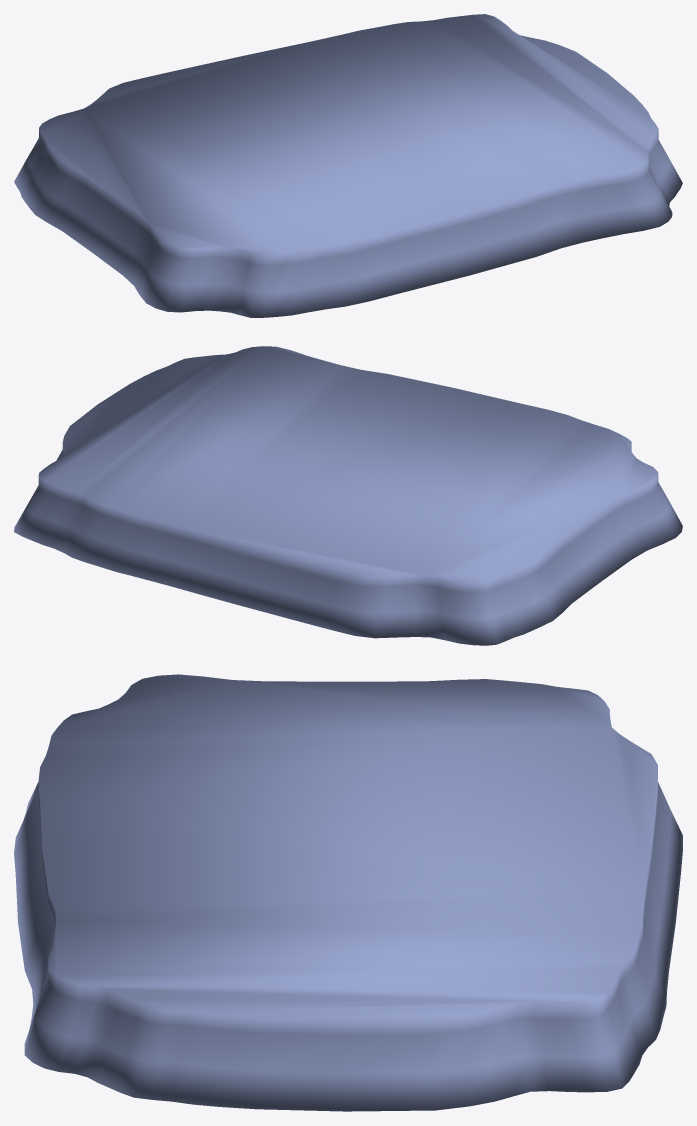
Rendered from snow-foundation.glb.
The picture shows the model from 3 angles, top to bottom: view 1: azimuth 30°, elevation 25°; view 2: azimuth 150°, elevation 25°; view 3: azimuth 270°, elevation 25°; orthographic projection. The views are drawn at different scales.
Visible parts, largest first — view 1: snow-foundation; view 2: snow-foundation; view 3: snow-foundation.
Boxes of the visible parts, x1,y1,x2,y2 form: snow-foundation: [14, 14, 682, 317]; snow-foundation: [14, 346, 682, 645]; snow-foundation: [14, 674, 682, 1111].
Size of the model in its own units: 13.05 by 1.25 by 9.86.
